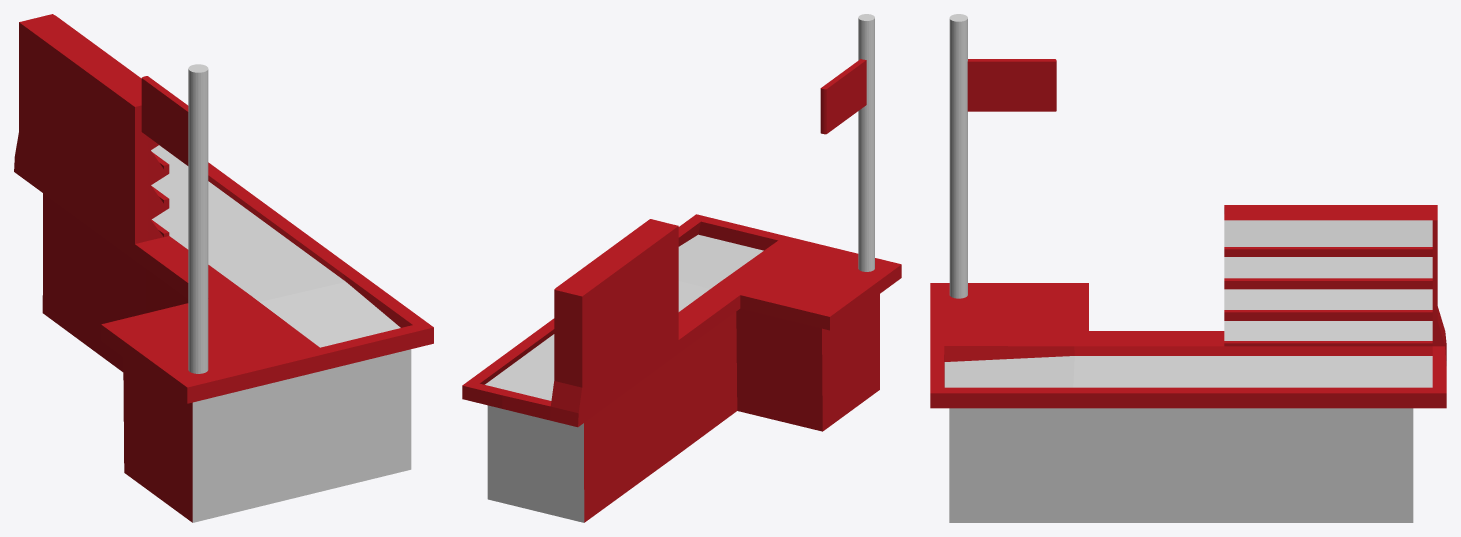
Rendered from cashiersupermarket.fbx.
3 views of the same model, side by side, from view 1: azimuth 30°, elevation 25°; view 2: azimuth 150°, elevation 25°; view 3: azimuth 270°, elevation 25° (orthographic). The views are drawn at different scales.
Parts seen in each view (by area): view 1: Cube, Circle; view 2: Cube, Circle; view 3: Cube, Circle.
Part boxes in pixels (box(x1,y1,x2,y2)): Cube: box(14, 14, 433, 522); Circle: box(141, 64, 208, 373); Cube: box(462, 214, 901, 522); Circle: box(820, 14, 874, 271); Cube: box(930, 205, 1446, 522); Circle: box(949, 14, 1056, 298).
Bounding box in the file's own units: 395 × 686 × 780.
